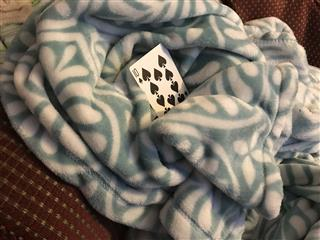TenOfSpades: (128, 42, 189, 117)
